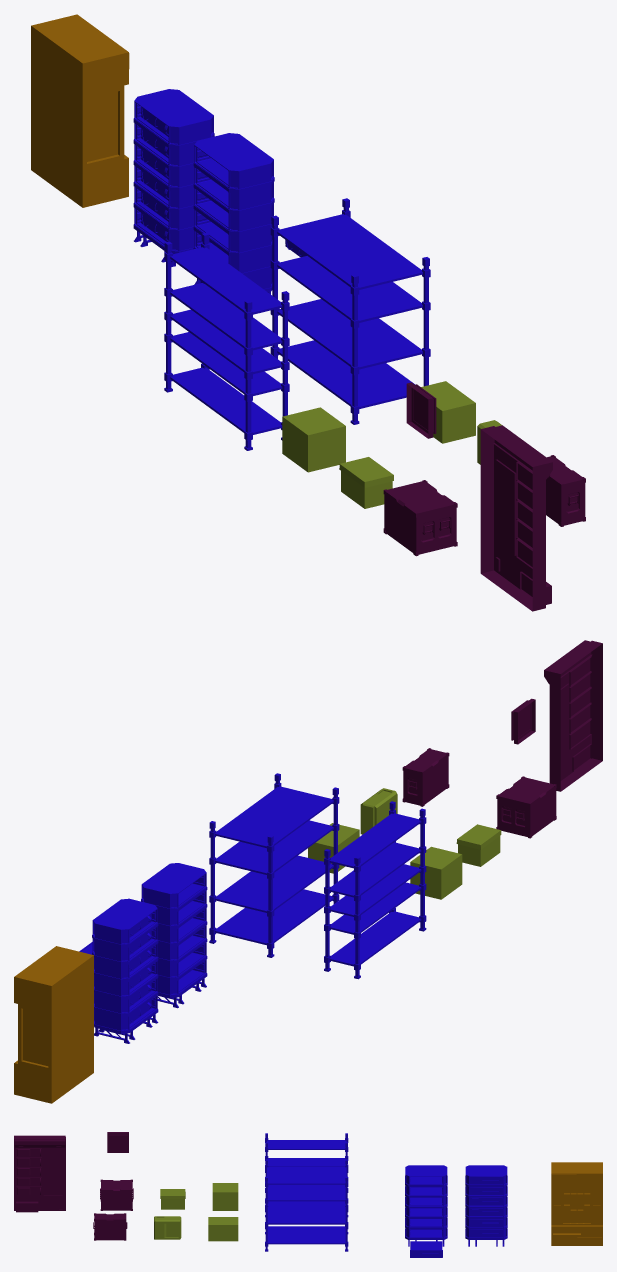
Rendered from Technical laboratory designer-V2_Server_assets.FBX.
3 renders of one model, top to bottom at view 1: azimuth 30°, elevation 25°; view 2: azimuth 150°, elevation 25°; view 3: azimuth 270°, elevation 25°, orthographic. The views are drawn at different scales.
Visible parts, largest first — view 1: Shelves_Big, Server_Hardware-02, Shelves_small, Server_Hardware_01, Server_empty, Server_full, container-2, Box-2, container-1, Box-1, Box-3, Ventilation; view 2: Shelves_Big, Server_Hardware-02, Shelves_small, Server_full, Server_Hardware_01, Server_empty, container-2, container-1, Box-2, Box-3, Computer, Box-1 (+1 smaller); view 3: Shelves_Big, Server_Hardware-02, Server_Hardware_01, Server_full, Server_empty, Shelves_small, container-2, container-1, Box-1, Box-2, Computer, panel_for_server (+2 smaller).
Part boxes in pixels (x1=…): Shelves_Big: x1=270, y1=198, x2=430, y2=424; Server_Hardware-02: x1=31, y1=14, x2=129, y2=207; Shelves_small: x1=164, y1=232, x2=289, y2=450; Server_Hardware_01: x1=480, y1=425, x2=552, y2=611; Server_empty: x1=193, y1=133, x2=274, y2=294; Server_full: x1=133, y1=89, x2=214, y2=266; container-2: x1=383, y1=480, x2=457, y2=556; Box-2: x1=282, y1=407, x2=345, y2=472; container-1: x1=546, y1=455, x2=585, y2=526; Box-1: x1=421, y1=381, x2=475, y2=443; Box-3: x1=339, y1=457, x2=393, y2=508; Ventilation: x1=406, y1=382, x2=436, y2=438; Shelves_Big: x1=209, y1=773, x2=339, y2=957; Server_Hardware-02: x1=14, y1=946, x2=93, y2=1103; Shelves_small: x1=324, y1=801, x2=426, y2=979; Server_full: x1=92, y1=898, x2=158, y2=1043; Server_Hardware_01: x1=544, y1=640, x2=602, y2=791; Server_empty: x1=141, y1=863, x2=207, y2=1008; container-2: x1=496, y1=776, x2=556, y2=838; container-1: x1=402, y1=748, x2=449, y2=806; Box-2: x1=410, y1=846, x2=462, y2=899; Box-3: x1=456, y1=824, x2=501, y2=866; Computer: x1=360, y1=788, x2=397, y2=834; Box-1: x1=308, y1=823, x2=359, y2=873; Shelves_Big: x1=265, y1=1159, x2=348, y2=1251; Server_Hardware-02: x1=551, y1=1162, x2=602, y2=1245; Server_Hardware_01: x1=14, y1=1135, x2=65, y2=1212; Server_full: x1=465, y1=1165, x2=507, y2=1246; Server_empty: x1=405, y1=1165, x2=447, y2=1246; Shelves_small: x1=265, y1=1133, x2=348, y2=1217; container-2: x1=100, y1=1179, x2=133, y2=1210; container-1: x1=93, y1=1213, x2=127, y2=1240; Box-1: x1=208, y1=1217, x2=238, y2=1241; Box-2: x1=212, y1=1183, x2=238, y2=1210; Computer: x1=154, y1=1216, x2=181, y2=1239; panel_for_server: x1=410, y1=1241, x2=442, y2=1257.
Bounding box in the file's own units: 3.69 × 2.23 × 14.78.
